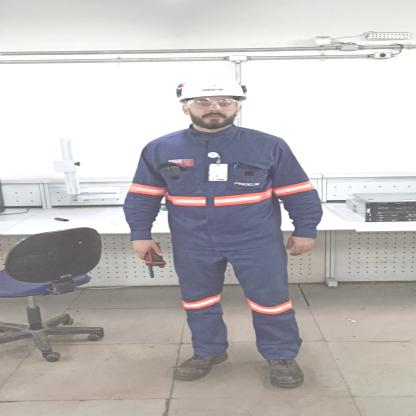Capacete: (172, 74, 248, 102)
